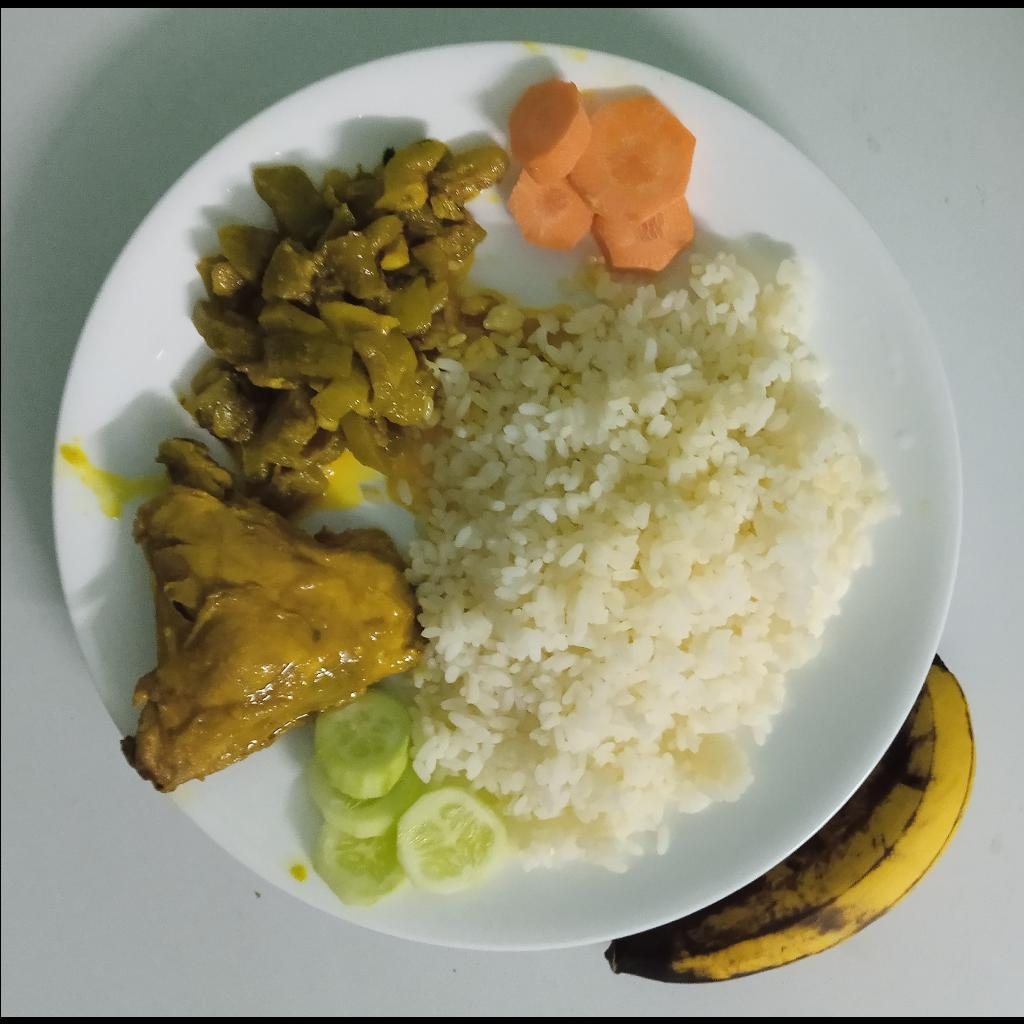banana: (601, 655, 974, 982)
carrot: (505, 77, 699, 277)
chicken: (120, 437, 423, 796)
cucumber: (305, 692, 506, 908)
dundol: (179, 137, 499, 503)
rice: (387, 252, 899, 871)
